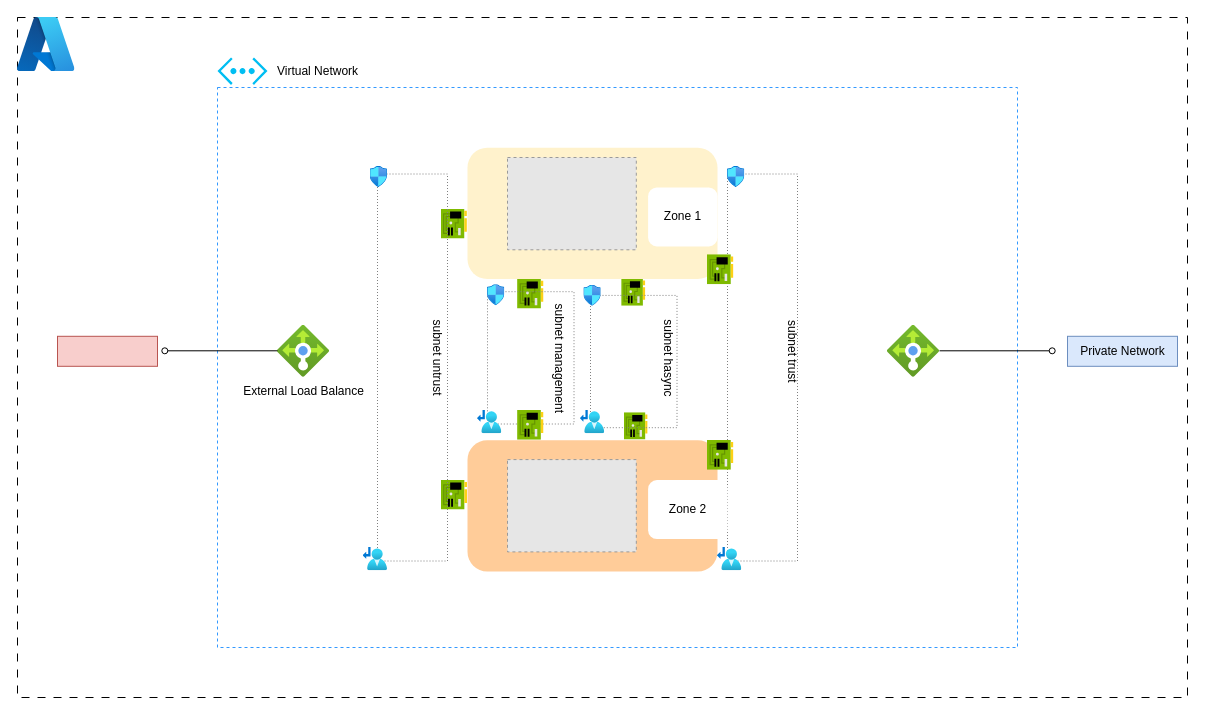
Image size: 1205x715. Some labels were removed from this diagram. Grey dashed boxes stand in for pictures. The shapes that lost their labels are listed below. From the top down, each one's centre as x and y in pixels, then its label:
At pixel 107 350: "Public Network".
At pixel 913 351: "Internal Load Balance".
